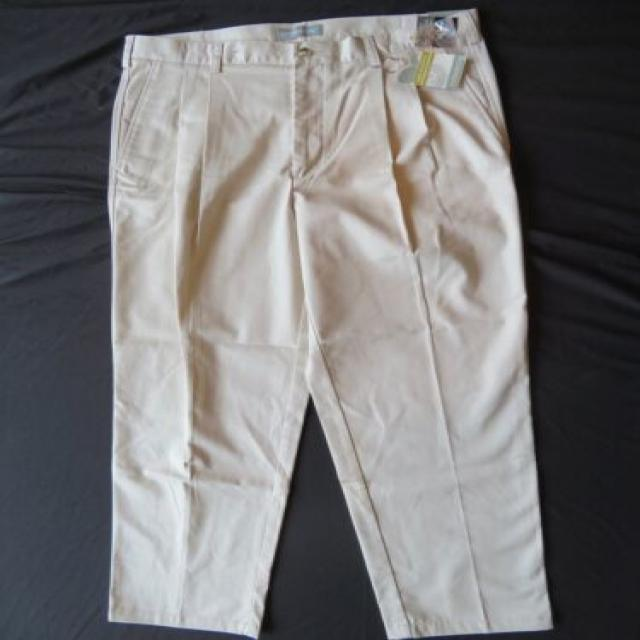long-pants: (100, 1, 554, 640)
